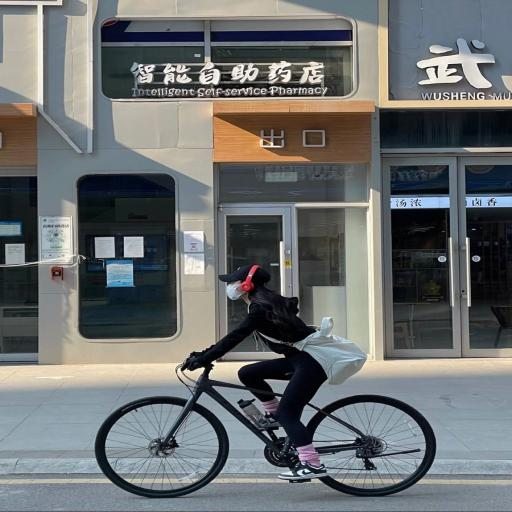bag: (96, 365, 297, 497)
construction_fence: (0, 459, 101, 474)
corridor: (383, 157, 511, 357), (383, 158, 465, 357), (458, 158, 511, 356), (0, 176, 38, 361), (219, 207, 292, 296)
laptop: (184, 265, 327, 480)
shelf: (315, 359, 511, 474)
